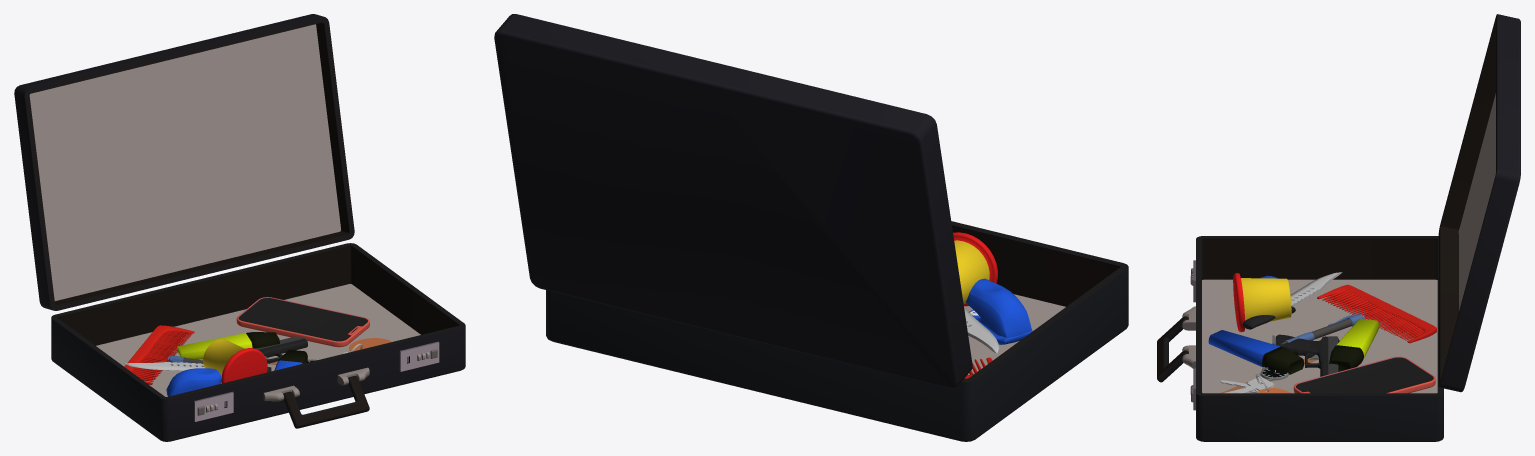
Rendered from briefcase.fbx.
The picture shows the model from 3 angles, left to right: view 1: azimuth 30°, elevation 25°; view 2: azimuth 150°, elevation 25°; view 3: azimuth 270°, elevation 25°; orthographic projection. The views are drawn at different scales.
Parts seen in each view (by area): view 1: Cube.001, Cube.004, mobile, box, comb, marker, Plane.005, pistol, Cube, marker.001; view 2: Cube.001, Cube.004, Plane.005, box, Cube; view 3: Cube.004, Cube.001, mobile, comb, box, marker.001, marker, pistol, Cube, chain, pen, watch.
Boxes of the visible parts, <box> form: Cube.001: <box>14,14,354,310</box>; Cube.004: <box>51,243,465,441</box>; mobile: <box>236,297,369,347</box>; box: <box>203,339,267,383</box>; comb: <box>124,325,194,384</box>; marker: <box>177,332,279,359</box>; Plane.005: <box>166,368,221,396</box>; pistol: <box>255,336,307,363</box>; Cube: <box>124,362,271,372</box>; marker.001: <box>274,349,307,370</box>; Cube.001: <box>494,14,972,388</box>; Cube.004: <box>546,221,1128,441</box>; Plane.005: <box>966,278,1033,344</box>; box: <box>953,232,997,306</box>; Cube: <box>964,309,999,353</box>; Cube.004: <box>1157,236,1443,441</box>; Cube.001: <box>1438,14,1520,392</box>; mobile: <box>1293,356,1435,393</box>; comb: <box>1317,284,1436,343</box>; box: <box>1233,273,1291,332</box>; marker.001: <box>1208,330,1304,374</box>; marker: <box>1329,318,1379,371</box>; pistol: <box>1272,334,1339,376</box>; Cube: <box>1242,272,1342,329</box>; chain: <box>1220,374,1290,393</box>; pen: <box>1281,314,1364,344</box>; watch: <box>1221,358,1317,393</box>.
Bounding box in the file's own units: 305 × 243 × 293.
Materials: 34 (3 with a texture image).
